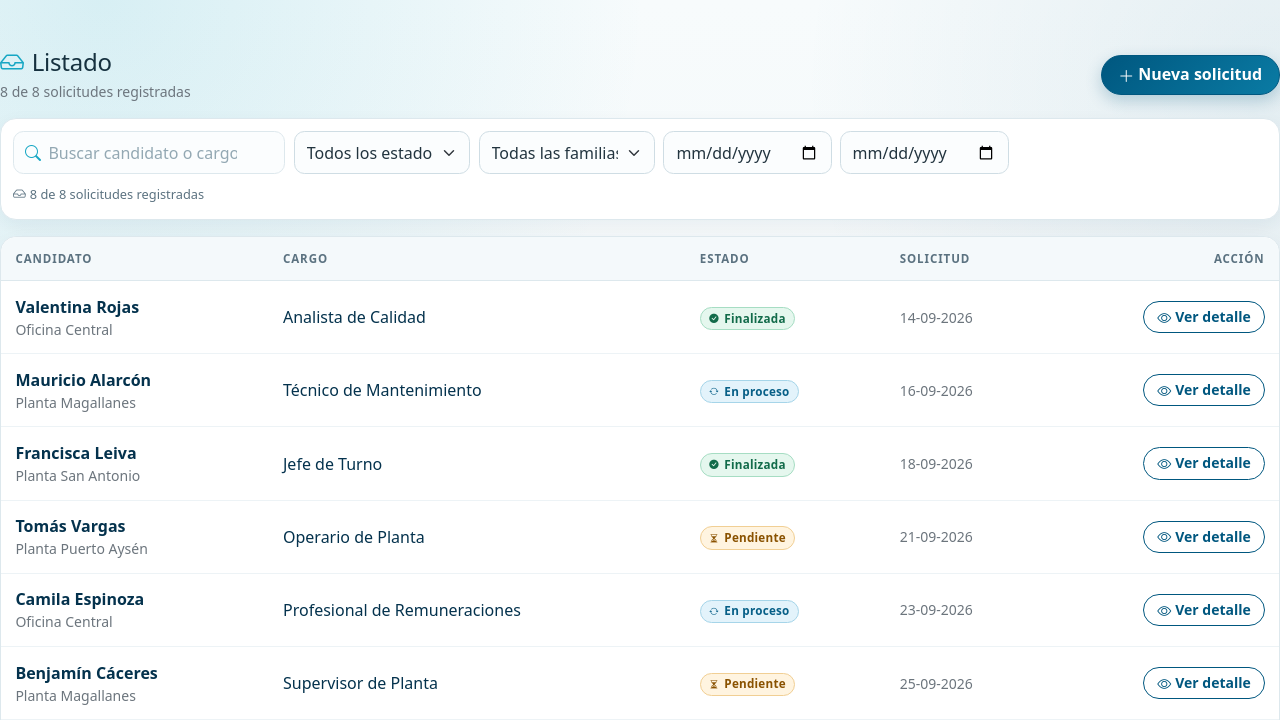
Test: BandejaSolicitudes › muestra mensaje vacío cuando ningún registro coincide
In the search field labelled "Buscar candidato o cargo…": (149, 153) [13,131,285,174], type "no-existe-esteelemento"
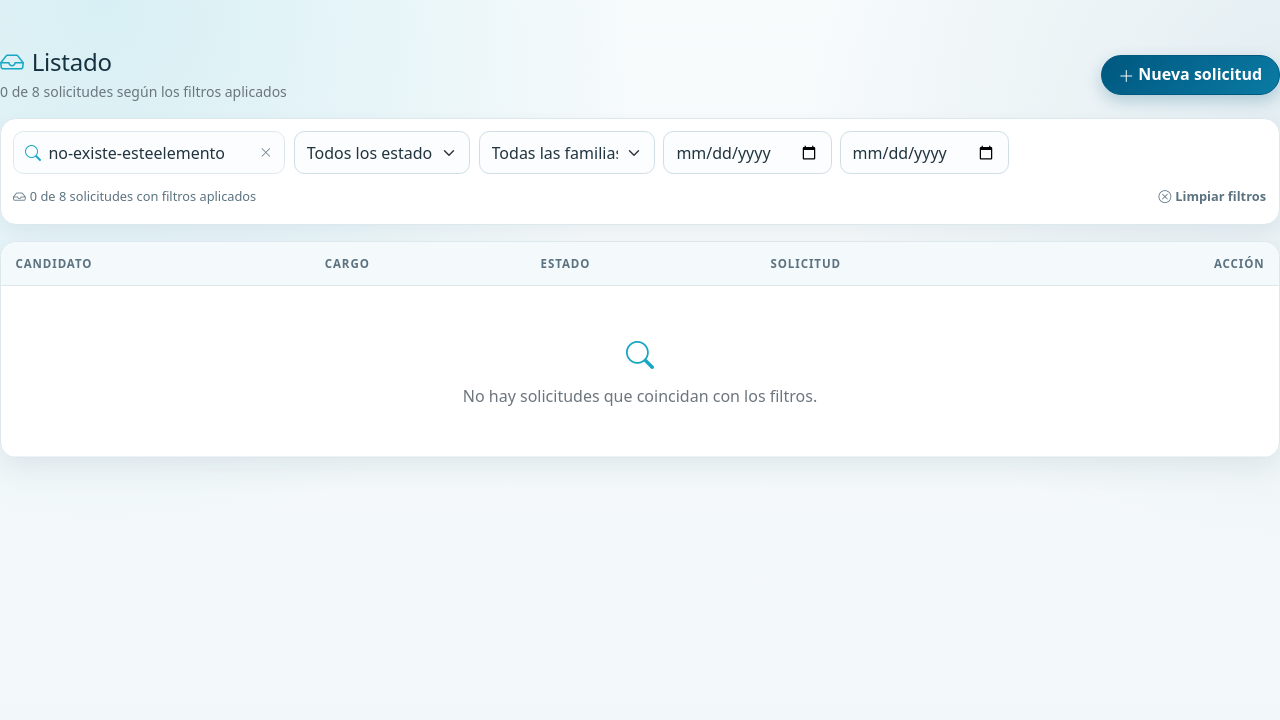
Expected: the text "No hay solicitudes que coincidan con los filtros." is shown, [1,285,1279,456]
